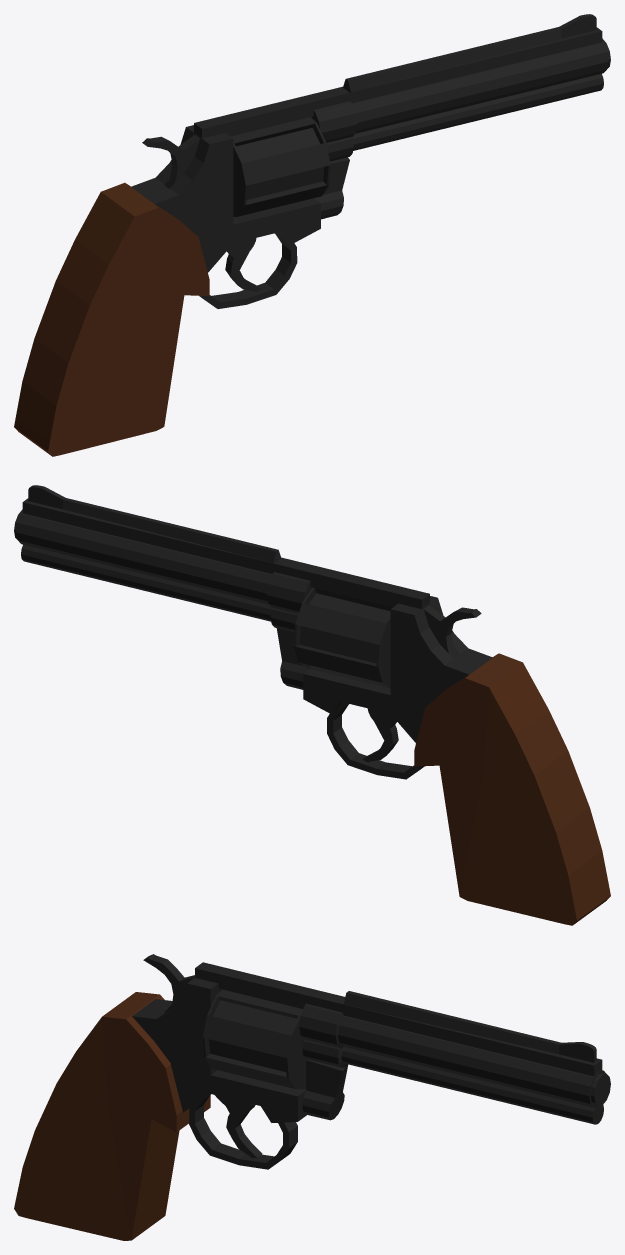
File: revolver.fbx
3 renders of one model, top to bottom at view 1: azimuth 30°, elevation 25°; view 2: azimuth 150°, elevation 25°; view 3: azimuth 330°, elevation 25°, orthographic.
Visible parts, largest first — view 1: barrel, grip; view 2: barrel, grip; view 3: barrel, grip.
Boxes of the visible parts, left/top/right/bottom form: barrel: left=131, top=14, right=610, bottom=308; grip: left=14, top=182, right=209, bottom=456; barrel: left=14, top=485, right=492, bottom=779; grip: left=414, top=653, right=610, bottom=925; barrel: left=132, top=954, right=610, bottom=1169; grip: left=14, top=992, right=210, bottom=1240.
Bounding box in the file's own units: 1942 × 954 × 260.
